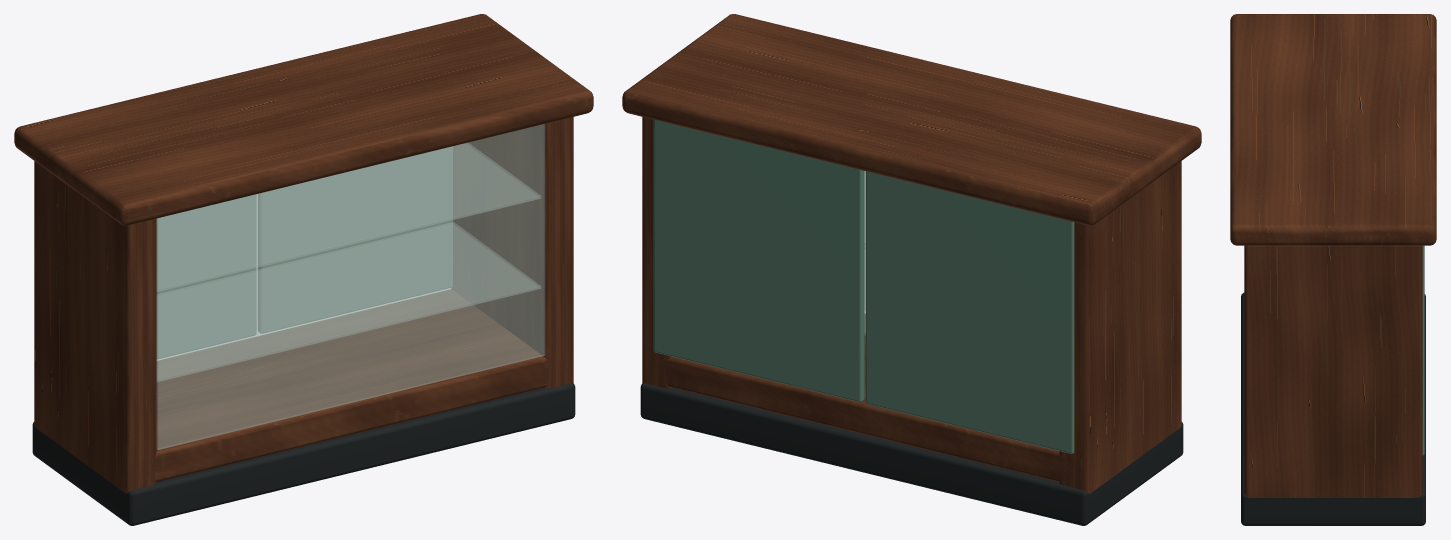
The model's file is shop_002_glass_checkout_counter.glb.
3 renders of one model, left to right at view 1: azimuth 30°, elevation 25°; view 2: azimuth 150°, elevation 25°; view 3: azimuth 270°, elevation 25°, orthographic. The views are drawn at different scales.
Visible parts, largest first — view 1: Static_Walnut, Static_Counter_glass, Static_Sage_enamel, Plinth; view 2: Static_Walnut, Static_Sage_enamel, Plinth; view 3: Static_Walnut, Plinth, Static_Sage_enamel.
Part boxes in pixels (x1=…): Static_Walnut: x1=14, y1=14, x2=593, y2=493; Static_Counter_glass: x1=156, y1=124, x2=545, y2=449; Static_Sage_enamel: x1=156, y1=146, x2=452, y2=358; Plinth: x1=32, y1=383, x2=575, y2=525; Static_Walnut: x1=622, y1=14, x2=1201, y2=493; Static_Sage_enamel: x1=653, y1=119, x2=1074, y2=453; Plinth: x1=640, y1=383, x2=1183, y2=525; Static_Walnut: x1=1230, y1=14, x2=1436, y2=497; Plinth: x1=1241, y1=292, x2=1425, y2=525; Static_Sage_enamel: x1=1422, y1=245, x2=1424, y2=455.
Size of the model in its own units: 1.43 by 0.9495 by 0.58.
4 materials, 1 textured.
